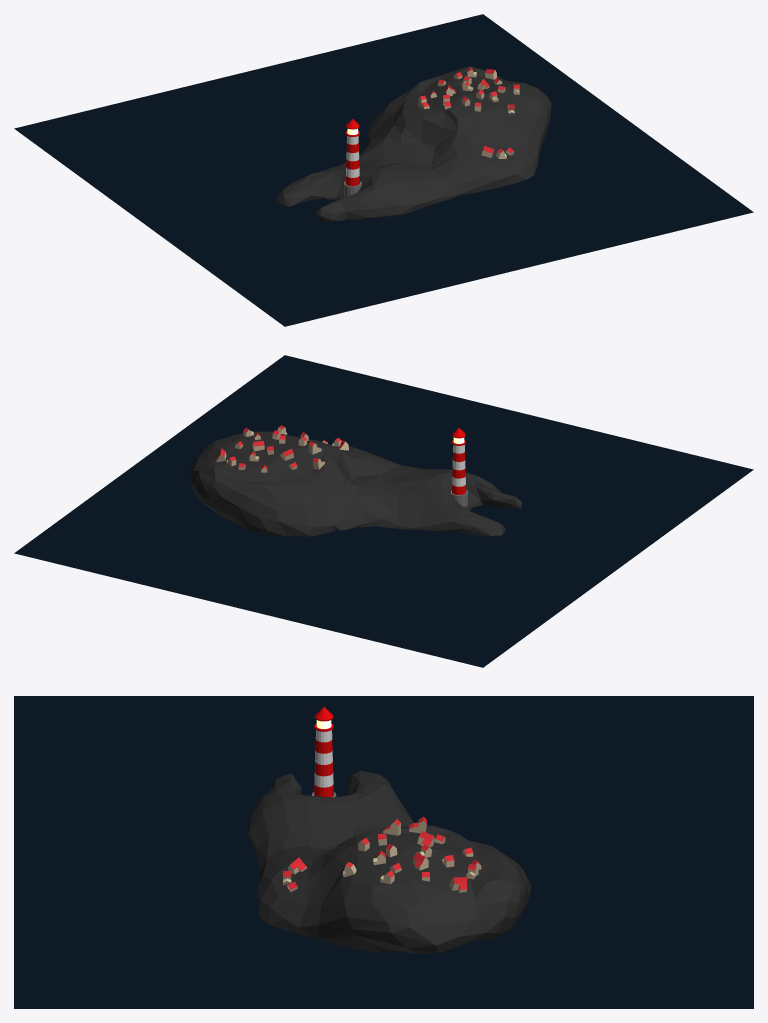
The model's file is Island3D.gltf.
The picture shows the model from 3 angles, top to bottom: view 1: azimuth 30°, elevation 25°; view 2: azimuth 150°, elevation 25°; view 3: azimuth 270°, elevation 25°; orthographic projection. The views are drawn at different scales.
Visible parts, largest first — view 1: Water, base rocks, LightHouse; view 2: Water, base rocks, LightHouse; view 3: Water, base rocks, LightHouse.
Part boxes in pixels (x1,y1,x2,y2): Water: (14, 14, 753, 326); base rocks: (276, 66, 551, 222); LightHouse: (344, 119, 361, 197); Water: (14, 355, 753, 667); base rocks: (190, 431, 522, 536); LightHouse: (450, 428, 467, 506); Water: (14, 696, 753, 1008); base rocks: (246, 770, 531, 954); LightHouse: (311, 707, 336, 797).
Size of the model in its own units: 60 by 14.97 by 60.
